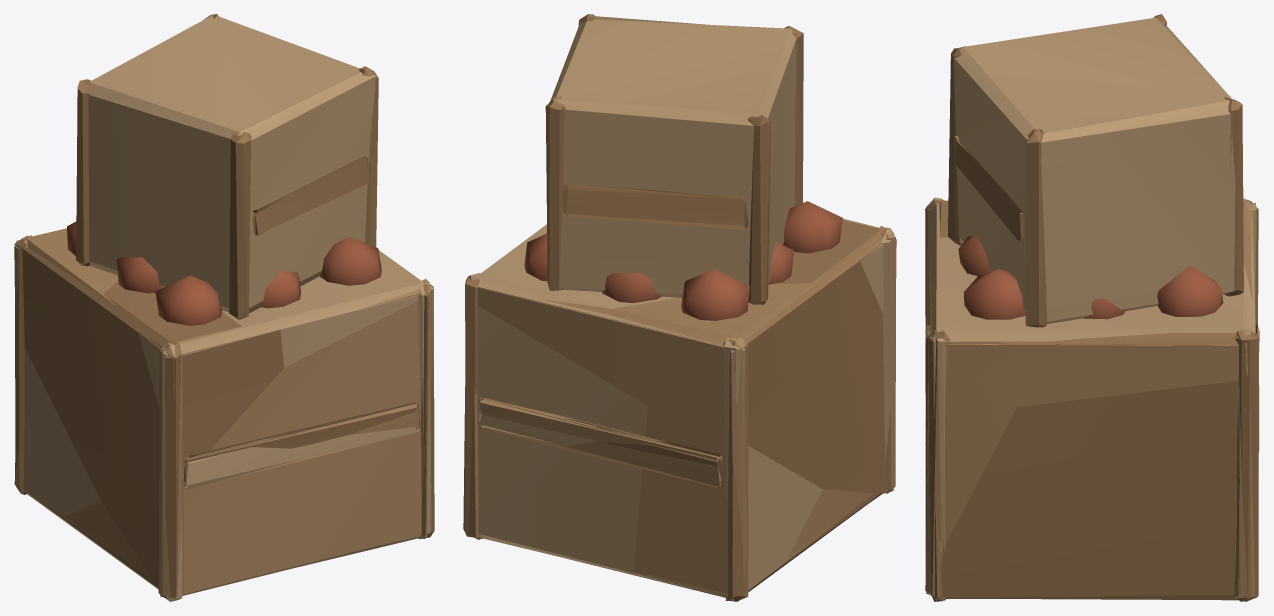
File: crate.glb
The picture shows the model from 3 angles, left to right: view 1: azimuth 30°, elevation 25°; view 2: azimuth 150°, elevation 25°; view 3: azimuth 270°, elevation 25°; orthographic projection. The views are drawn at different scales.
Visible parts, largest first — view 1: crate.v1.mesh, crate.v0.mesh, crate.v2.mesh; view 2: crate.v1.mesh, crate.v2.mesh, crate.v0.mesh; view 3: crate.v1.mesh, crate.v0.mesh, crate.v2.mesh.
Part boxes in pixels (x1,y1,x2,y2): crate.v1.mesh: [14, 14, 433, 601]; crate.v0.mesh: [14, 228, 434, 598]; crate.v2.mesh: [14, 221, 432, 596]; crate.v1.mesh: [469, 14, 894, 601]; crate.v2.mesh: [463, 201, 895, 599]; crate.v0.mesh: [465, 225, 896, 601]; crate.v1.mesh: [925, 14, 1256, 601]; crate.v0.mesh: [925, 198, 1259, 601]; crate.v2.mesh: [926, 199, 1259, 600].
Size of the model in its own units: 0.6208 by 0.9555 by 0.6239.
